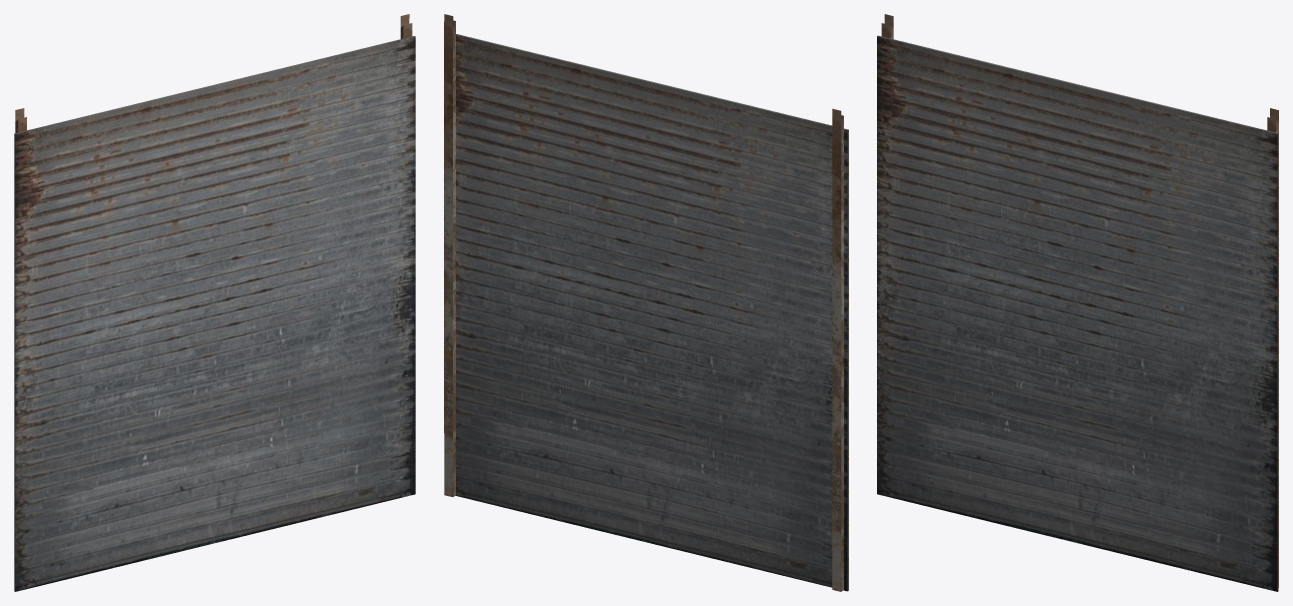
The model's file is garage-door.gltf.
The picture shows the model from 3 angles, left to right: view 1: azimuth 30°, elevation 25°; view 2: azimuth 150°, elevation 25°; view 3: azimuth 330°, elevation 25°; orthographic projection.
Parts seen in each view (by area): view 1: Harbor roll-up shutter; view 2: Harbor roll-up shutter; view 3: Harbor roll-up shutter.
Boxes of the visible parts, bbox=[...] form: Harbor roll-up shutter: bbox=[14, 14, 415, 591]; Harbor roll-up shutter: bbox=[444, 14, 848, 591]; Harbor roll-up shutter: bbox=[877, 14, 1278, 591].
Size of the model in its own units: 2.6 by 2.97 by 0.0424.
1 material, 1 textured.
